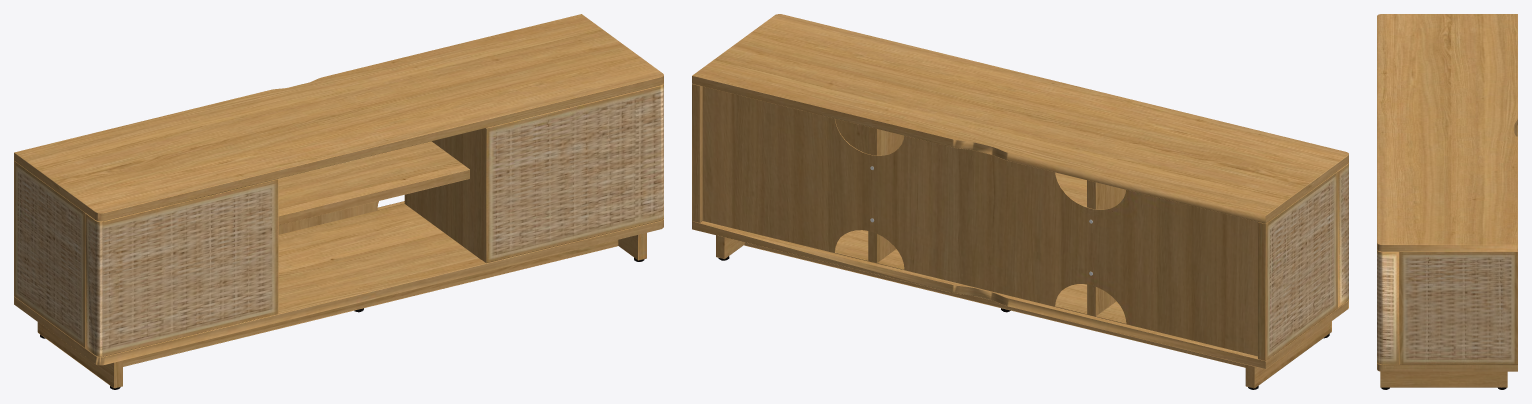
The model's file is fryksas_tv_unit_rattan.glb.
3 renders of one model, left to right at view 1: azimuth 30°, elevation 25°; view 2: azimuth 150°, elevation 25°; view 3: azimuth 270°, elevation 25°, orthographic. The views are drawn at different scales.
Visible parts, largest first — view 1: Mesh_0; view 2: Mesh_0; view 3: Mesh_0.
Boxes of the visible parts, x1,y1,x2,y2 form: Mesh_0: (14,14,663,389); Mesh_0: (692,14,1348,389); Mesh_0: (1377,14,1517,389).
Size of the model in its own units: 1.59 by 0.4901 by 0.4101.
Materials: 1 (1 with a texture image).
